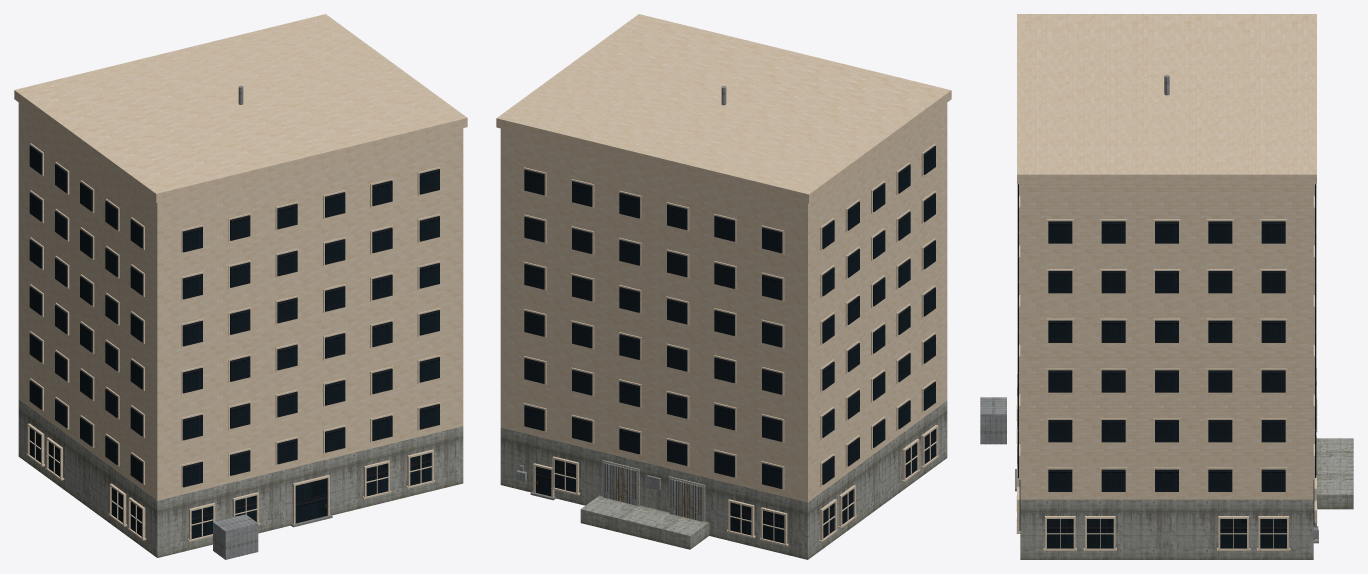
The model's file is ironport-gazette-building_lod0.gltf.
3 views of the same model, side by side, from view 1: azimuth 30°, elevation 25°; view 2: azimuth 150°, elevation 25°; view 3: azimuth 270°, elevation 25° (orthographic). The views are drawn at different scales.
Parts seen in each view (by area): view 1: ironport-gazette-building_upper, ironport-gazette-building__cornice, ironport-gazette-building_fen_07-glass-curtain-blue_1_t, ironport-gazette-building_base, ironport-gazette-building_fen_04-limestone_0, ironport-gazette-building__newsstand; view 2: ironport-gazette-building_upper, ironport-gazette-building__cornice, ironport-gazette-building_fen_07-glass-curtain-blue_1_t, ironport-gazette-building_base, ironport-gazette-building_fen_04-limestone_0, ironport-gazette-building__dock_platform, ironport-gazette-building_fen_21-corrugated-steel_5, ironport-gazette-building_fen_15-concrete-boardformed_4; view 3: ironport-gazette-building_upper, ironport-gazette-building__cornice, ironport-gazette-building_fen_07-glass-curtain-blue_1_t, ironport-gazette-building_base, ironport-gazette-building_fen_04-limestone_0, ironport-gazette-building__dock_platform, ironport-gazette-building__newsstand.
Part boxes in pixels (x1,y1,x2,y2): ironport-gazette-building_upper: [18, 16, 463, 500]; ironport-gazette-building__cornice: [14, 14, 467, 202]; ironport-gazette-building_fen_07-glass-curtain-blue_1_t: [29, 145, 439, 538]; ironport-gazette-building_base: [18, 400, 463, 557]; ironport-gazette-building_fen_04-limestone_0: [26, 143, 440, 541]; ironport-gazette-building__newsstand: [213, 514, 258, 559]; ironport-gazette-building_upper: [500, 16, 947, 502]; ironport-gazette-building__cornice: [496, 14, 951, 203]; ironport-gazette-building_fen_07-glass-curtain-blue_1_t: [524, 146, 935, 543]; ironport-gazette-building_base: [500, 401, 947, 559]; ironport-gazette-building_fen_04-limestone_0: [523, 143, 938, 546]; ironport-gazette-building__dock_platform: [580, 495, 709, 549]; ironport-gazette-building_fen_21-corrugated-steel_5: [603, 463, 702, 521]; ironport-gazette-building_fen_15-concrete-boardformed_4: [602, 460, 705, 521]; ironport-gazette-building_upper: [1020, 15, 1313, 499]; ironport-gazette-building__cornice: [1017, 14, 1316, 184]; ironport-gazette-building_fen_07-glass-curtain-blue_1_t: [1017, 184, 1316, 548]; ironport-gazette-building_base: [1020, 499, 1313, 559]; ironport-gazette-building_fen_04-limestone_0: [1016, 184, 1317, 550]; ironport-gazette-building__dock_platform: [1316, 438, 1353, 509]; ironport-gazette-building__newsstand: [980, 397, 1006, 444].
Size of the model in its own units: 28.55 by 33.5 by 28.
